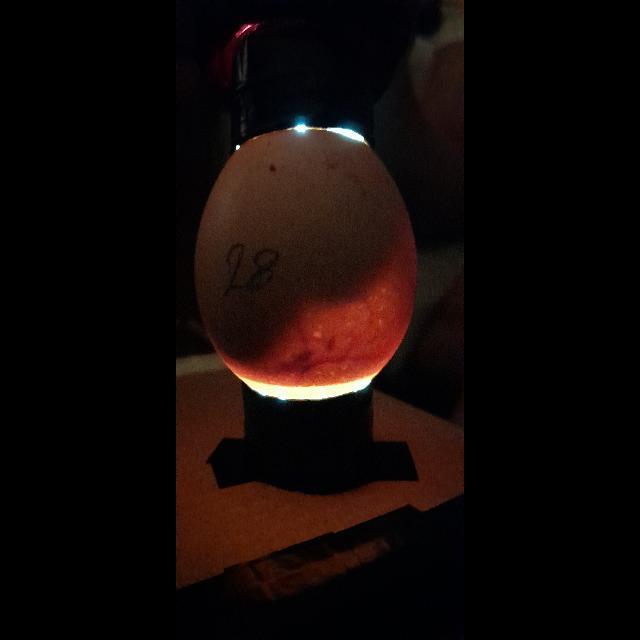Fertile: (192, 124, 424, 400)
